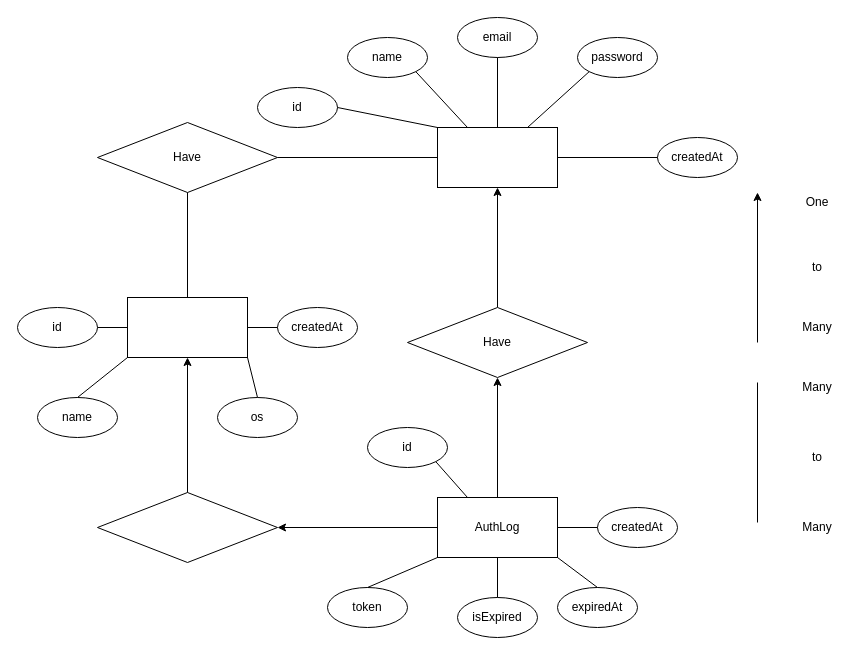
The diagram is 865 pixels wide and 655 high, and some of its shapes have lost their labels. Here are the shapes that lost their labels. From the top down, the centre of each, then its label:
At pixel 497 157: "User".
At pixel 187 327: "Browser".
At pixel 187 527: "Has".
